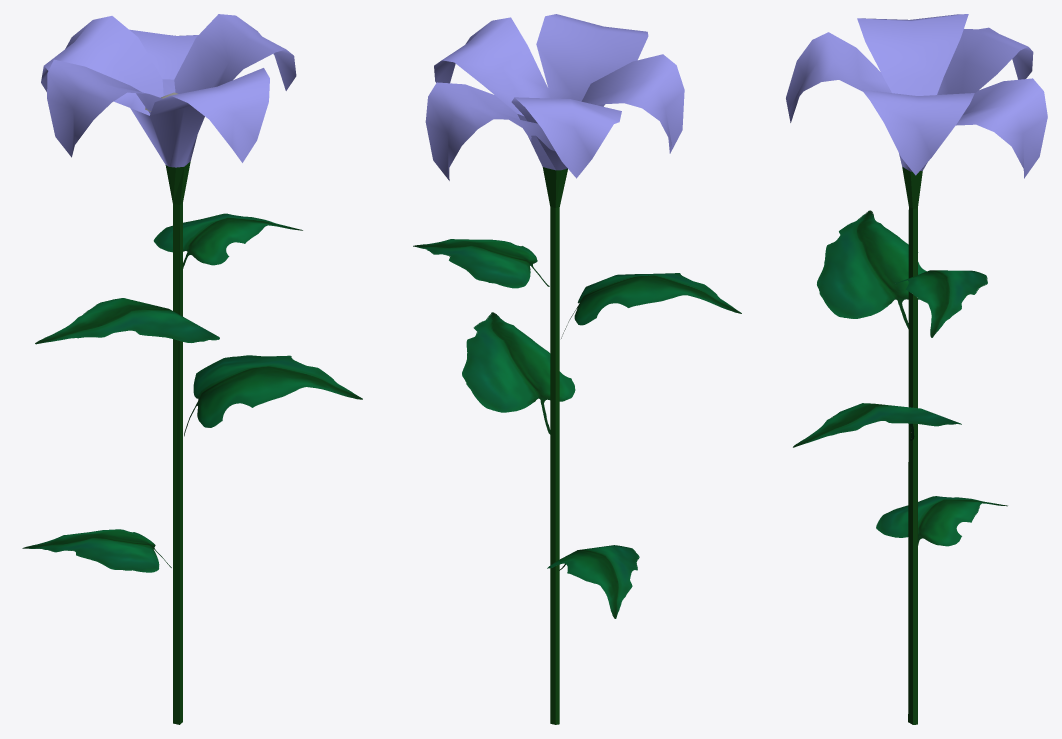
Rendered from flower.FBX.
3 views of the same model, side by side, from view 1: azimuth 30°, elevation 25°; view 2: azimuth 150°, elevation 25°; view 3: azimuth 270°, elevation 25° (orthographic).
Parts seen in each view (by area): view 1: Plane007; view 2: Plane007; view 3: Plane007.
Part boxes in pixels (x1=…): Plane007: x1=22, y1=14, x2=362, y2=724; Plane007: x1=413, y1=14, x2=741, y2=724; Plane007: x1=786, y1=14, x2=1047, y2=724.
Size of the model in its own units: 1.05 by 2.18 by 0.7827.
